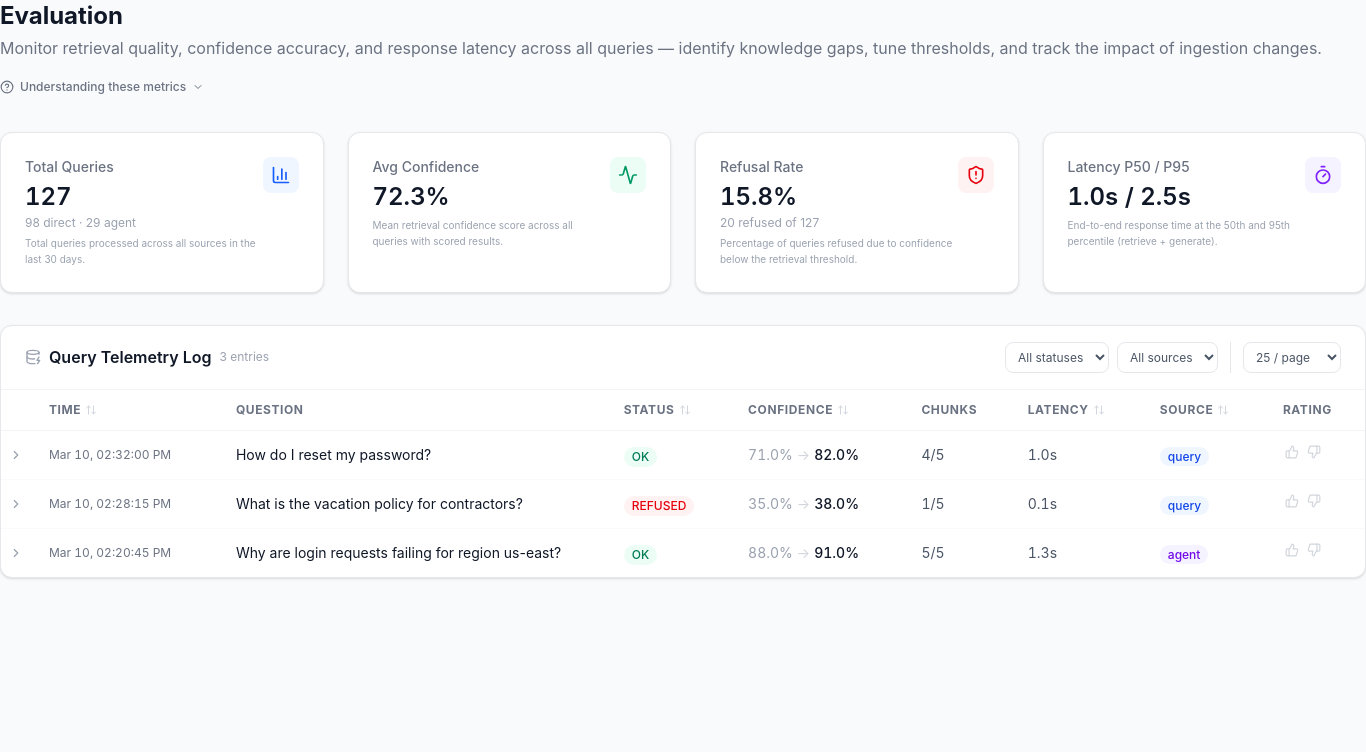
it: EvaluationQueries — expandable rows › expands an OK row to show answer and citations
Expected: the text "navigate to the login page" is not shown
Note: Click the row
Click the text "How do I reset my password?" at x=414, y=454, box [220,430,608,479]
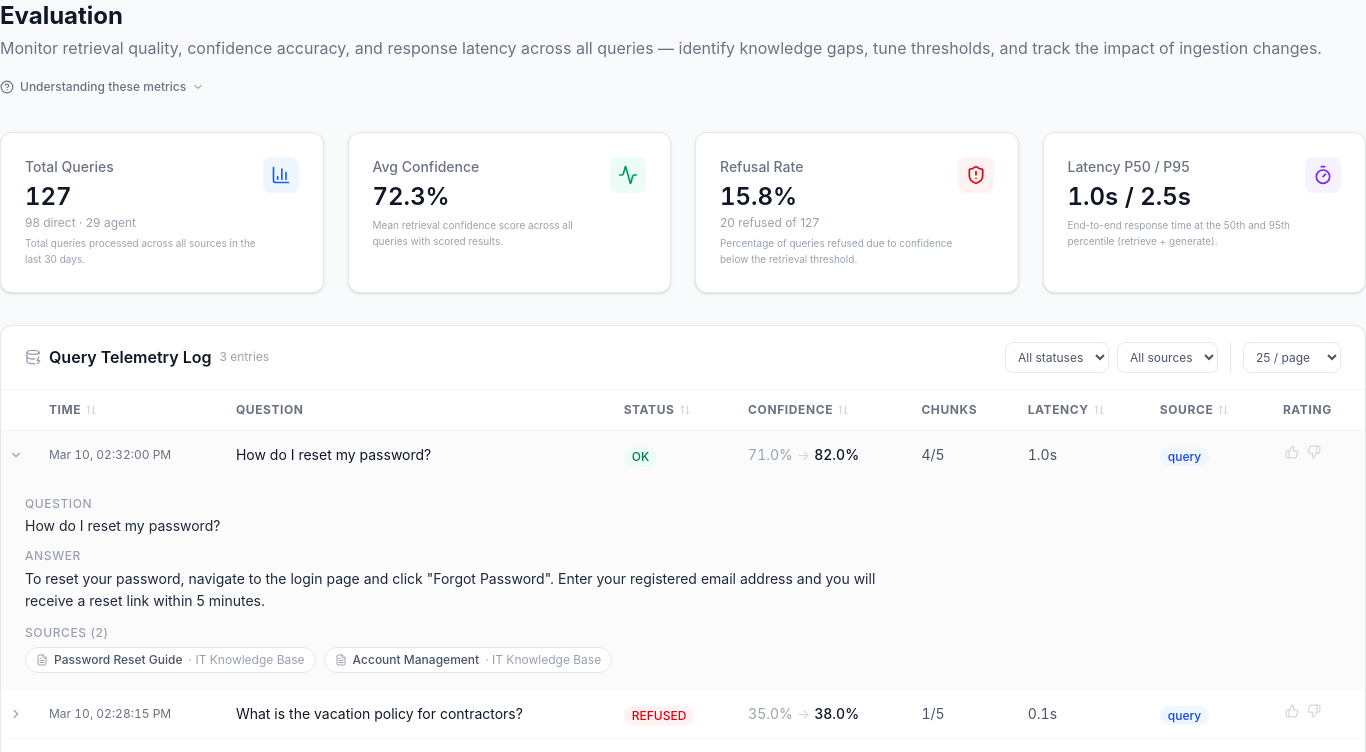
Now the text "navigate to the login page" is shown, box [25,570,879,609]
Now the text "Password Reset Guide" is shown, box [54,652,183,668]
Now the text "Account Management" is shown, box [353,652,479,668]
